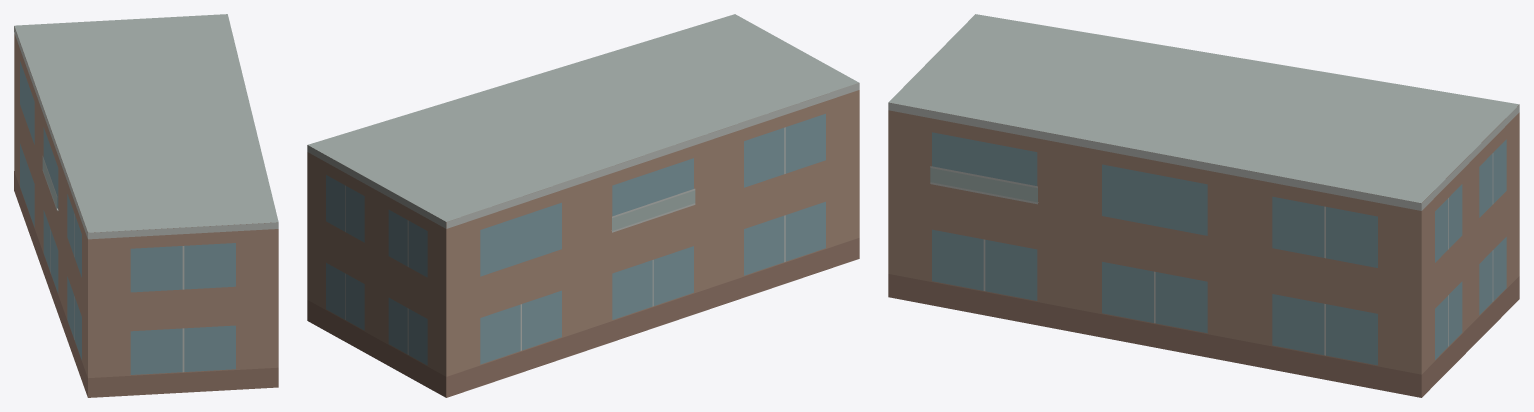
The model's file is survey-upis-32522684.glb.
3 views of the same model, side by side, from view 1: azimuth 30°, elevation 25°; view 2: azimuth 150°, elevation 25°; view 3: azimuth 270°, elevation 25° (orthographic). The views are drawn at different scales.
Visible parts, largest first — view 1: survey-upis-32522684.tmp; view 2: survey-upis-32522684.tmp; view 3: survey-upis-32522684.tmp.
Boxes of the visible parts, x1,y1,x2,y2 form: survey-upis-32522684.tmp: (14, 14, 278, 397); survey-upis-32522684.tmp: (307, 14, 859, 397); survey-upis-32522684.tmp: (888, 14, 1519, 397).
Bounding box in the file's own units: 12.73 × 6.1 × 17.94.
